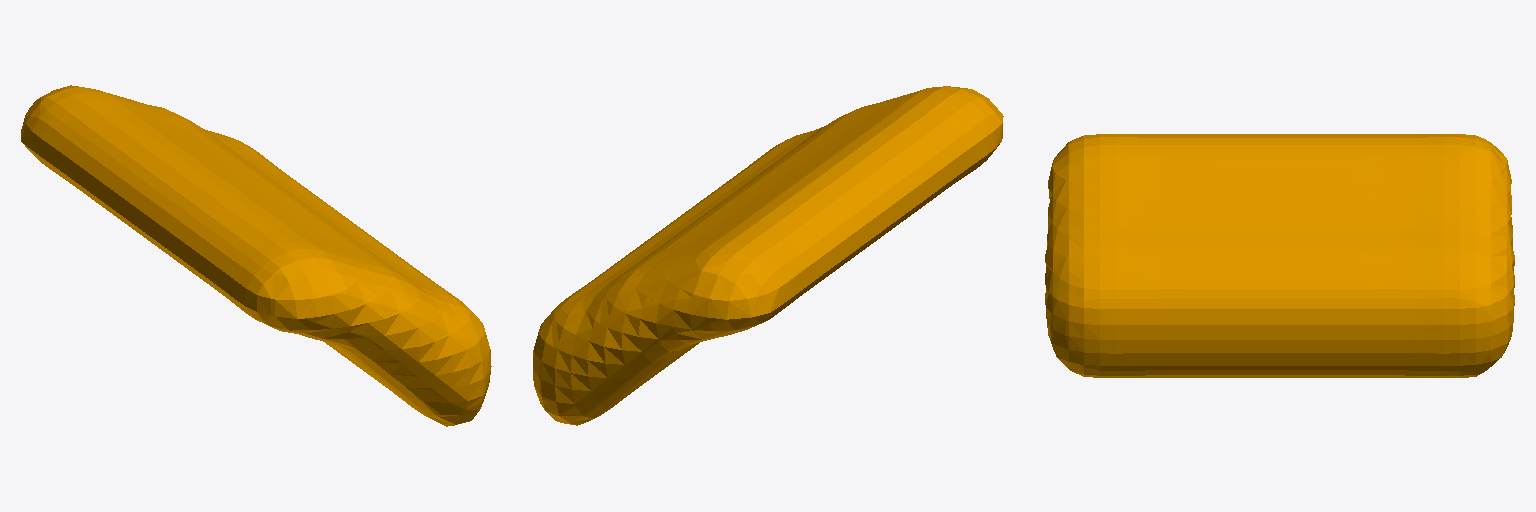
The robot description file, URDF, robot "V06_1":
<?xml version="1.0"?>
<robot name="V06_1">
  <link name="base_link">
    <visual>
      <geometry>
        <mesh filename="../../../../meshes/egad/train/V06_1.obj" />
      </geometry>
    </visual>
  </link>
</robot>

--- What the picture shows (computed from the rendered views, not written in the file) ---
3 views of the same robot in one strip: view 1: azimuth 30°, elevation 25°; view 2: azimuth 150°, elevation 25°; view 3: azimuth 270°, elevation 25° (orthographic).
Model V06_1 with 1 links and 0 joints (none), rooted at base_link, posed all joints at 0.
Visible links, largest first — view 1: base_link; view 2: base_link; view 3: base_link.
Link boxes in pixels (x1,y1,x2,y2): base_link: (21, 85, 491, 426); base_link: (533, 86, 1003, 425); base_link: (1045, 134, 1514, 377).
Bounding box of the posed robot: 0.0366 × 0.075 × 0.0304 m (x, y, z).
1 mesh visuals loaded from 1 distinct referenced files (1 OBJ).